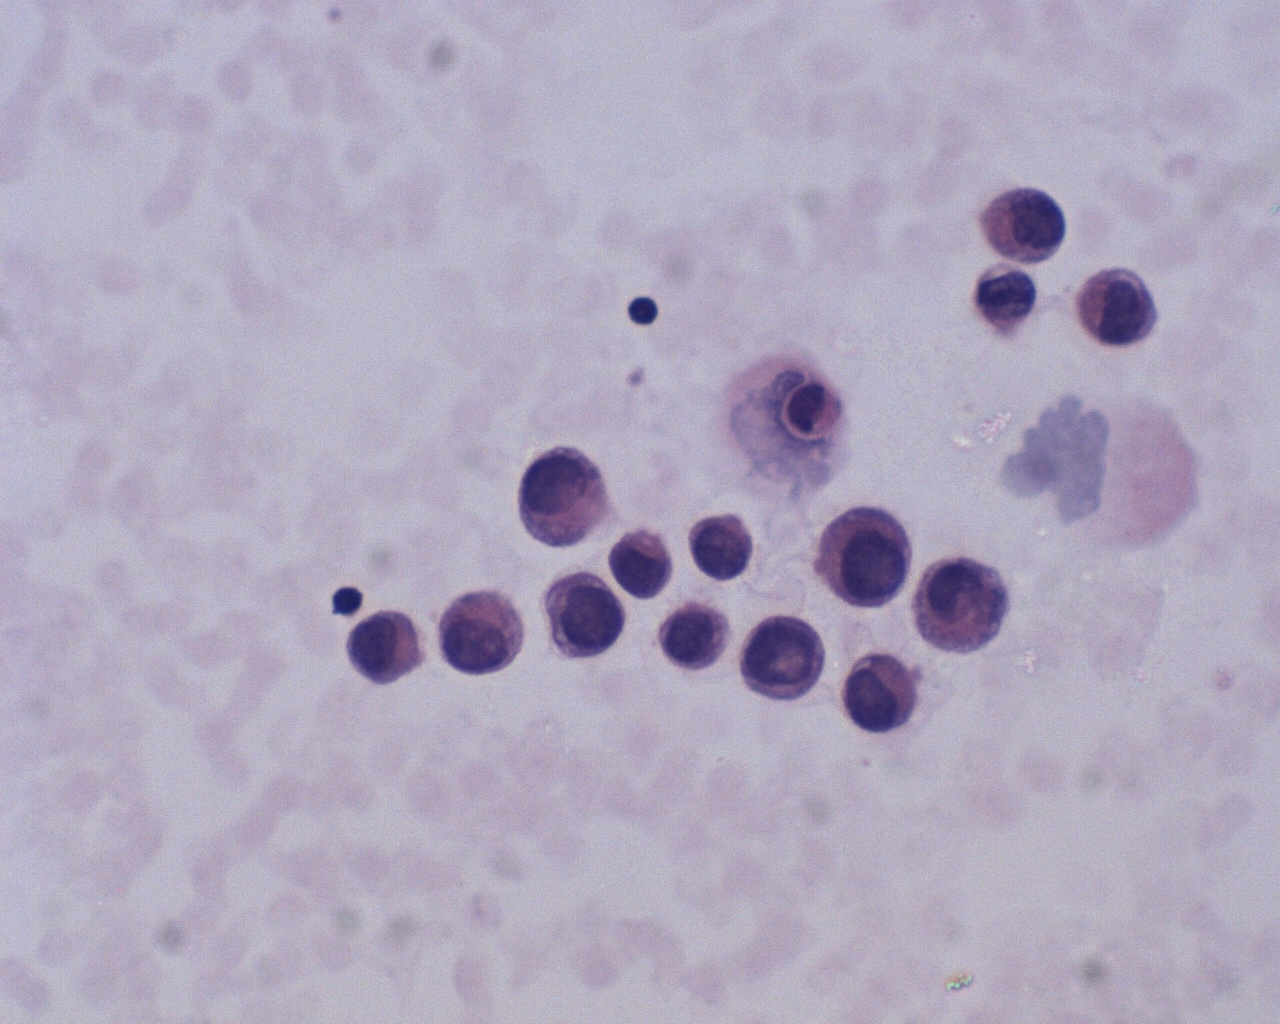ab: (503, 440, 616, 552), (906, 548, 1018, 658), (423, 581, 536, 682), (812, 503, 913, 611), (1068, 256, 1171, 358), (974, 172, 1073, 273), (737, 609, 832, 707), (537, 571, 634, 666), (833, 642, 924, 737), (341, 609, 430, 691), (607, 516, 684, 609), (655, 600, 739, 683), (677, 512, 765, 587)
lymph: (619, 287, 670, 336)
